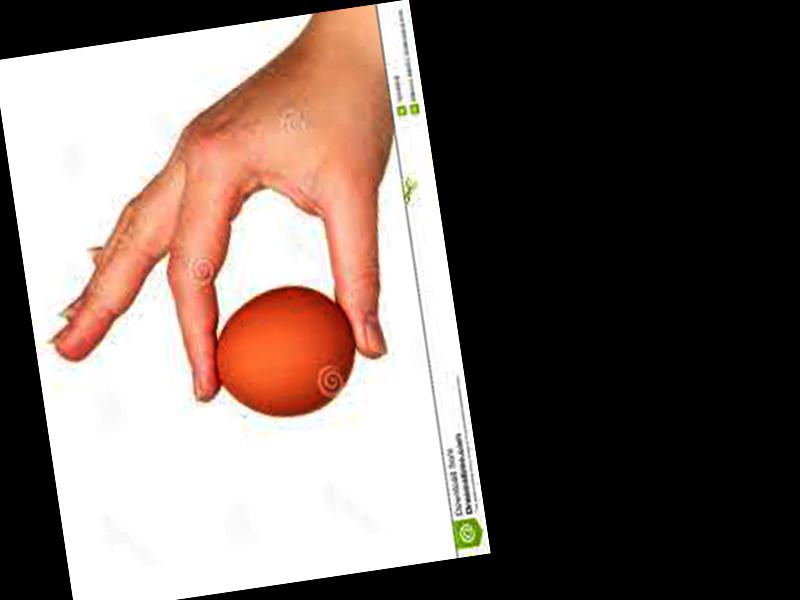Eggs: (205, 275, 365, 427)
